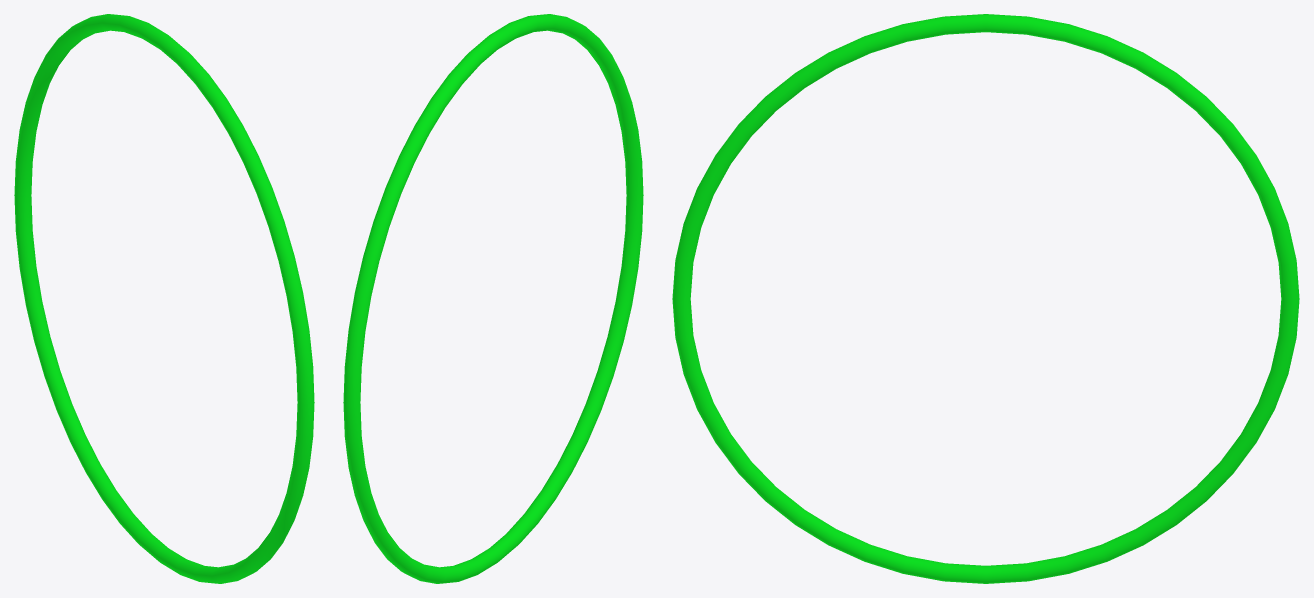
Rendered from rotate_gizmo_z.gltf.
3 renders of one model, left to right at view 1: azimuth 30°, elevation 25°; view 2: azimuth 150°, elevation 25°; view 3: azimuth 270°, elevation 25°, orthographic. The views are drawn at different scales.
Visible parts, largest first — view 1: Z.001; view 2: Z.001; view 3: Z.001.
Boxes of the visible parts, x1,y1,x2,y2 form: Z.001: (14,14,314,583); Z.001: (343,14,643,583); Z.001: (672,14,1299,583).
Size of the model in its own units: 0.06 by 2.06 by 2.06.
